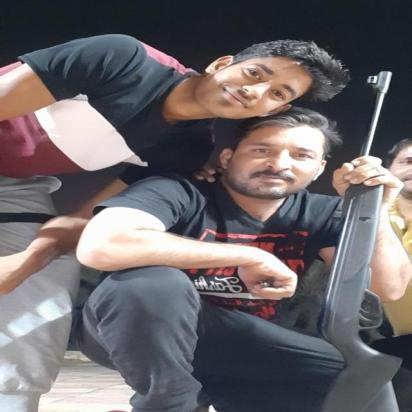Gun: (314, 67, 409, 412)
